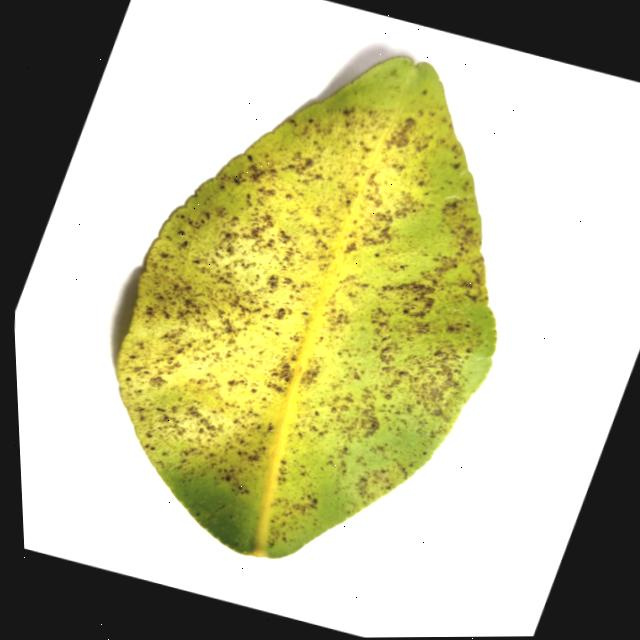melanose: (116, 56, 495, 557)
